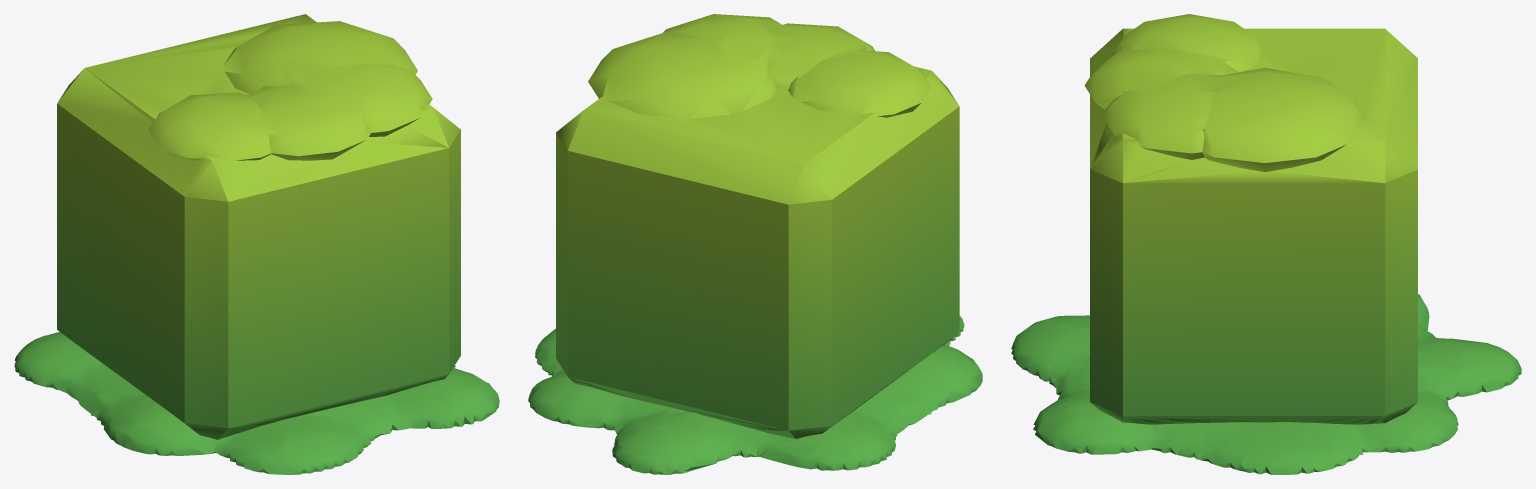
The model's file is gelatinous_cube_shell.glb.
The picture shows the model from 3 angles, left to right: view 1: azimuth 30°, elevation 25°; view 2: azimuth 150°, elevation 25°; view 3: azimuth 270°, elevation 25°; orthographic projection. The views are drawn at different scales.
Visible parts, largest first — view 1: gelatinous_cube_shell; view 2: gelatinous_cube_shell; view 3: gelatinous_cube_shell.
Boxes of the visible parts, <box> form: gelatinous_cube_shell: <box>14,14,499,474</box>; gelatinous_cube_shell: <box>528,14,982,474</box>; gelatinous_cube_shell: <box>1011,14,1521,474</box>.
Bounding box in the file's own units: 3.03 × 2.36 × 3.42.
1 material, 1 textured.
